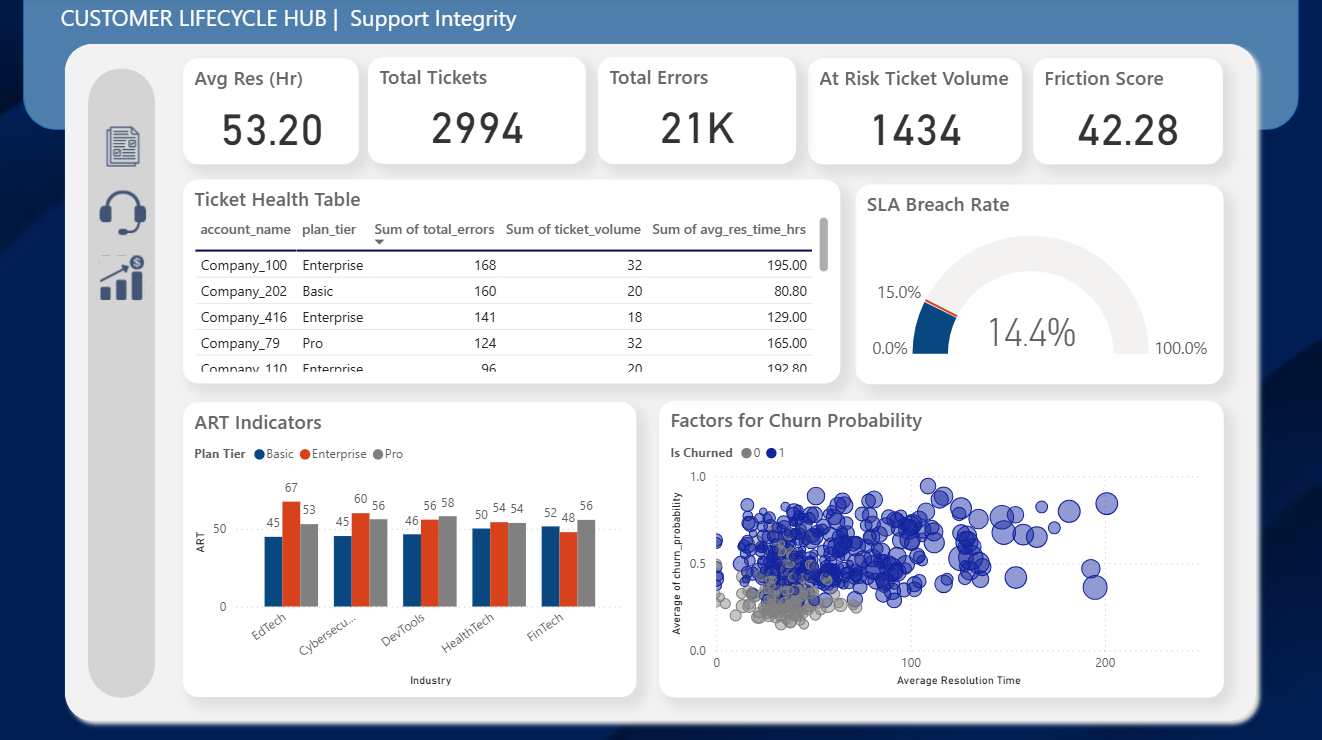

This screenshot's page, from the dashboard's own definition file:
{"tool":"powerbi","page":{"name":"Support Integrity","canvas":[1280,720],"ordinal":1},"visuals":[{"type":"shape","box":[24.5,0,1231.4,128.4],"z":0},{"type":"shape","box":[55,36.7,1167.8,671.3],"z":1000},{"type":"textbox","box":[55,0,816.9,48.9],"z":2000},{"type":"actionButton","box":[86.8,68.5,64.8,607.7],"z":3000},{"type":"actionButton","box":[94.2,112.5,51.4,64.8],"z":4000},{"type":"actionButton","box":[94.2,181,51.4,53.8],"z":5000},{"type":"card","title":"Avg Res (Hr)","fields":{"Values":["Measures_Table.Avg Resolution Time"]},"box":[178.5,58.7,170,102.7],"z":6000},{"type":"clusteredColumnChart","title":"ART Indicators","fields":{"Y":["Measures_Table.Average Resolution Time"],"Category":["Dim_Accounts.industry"],"Series":["Dim_Accounts.plan_tier"]},"box":[179.1,391,437.2,285],"z":7000},{"type":"gauge","title":"SLA Breach Rate","fields":{"Y":["Measures_Table.SLA Breach Rate"],"TargetValue":["Measures_Table.SLA Target"]},"box":[828.2,180.6,355.1,192.5],"z":8000},{"type":"card","title":"At Risk Ticket Volume","fields":{"Values":["Measures_Table.At Risk Ticket Volume"]},"box":[781.4,58.7,206.7,102.7],"z":9000},{"type":"card","title":"Friction Score","fields":{"Values":["Measures_Table.Friction Score"]},"box":[999.1,58.7,183.4,102.7],"z":10000},{"type":"scatterChart","title":"Factors for Churn Probability","fields":{"X":["Measures_Table.Average Resolution Time"],"Y":["Avg(Fact_Churn_Prediction.churn_probability)"],"Size":["Sum(Fact_Churn_Prediction.total_errors)"],"Category":["Dim_Geography.account_name"],"Series":["Fact_Churn_Prediction.is_churned"]},"box":[638.7,389.5,544.7,286.5],"z":11000},{"type":"tableEx","title":"Ticket Health Table","fields":{"Values":["Dim_Geography.account_name","Dim_Accounts.plan_tier","Sum(Fact_Churn_Prediction.total_errors)","Sum(Fact_Churn_Prediction.ticket_volume)","Sum(Fact_Churn_Prediction.avg_res_time_hrs)"]},"box":[179.1,176.1,634.2,197],"z":12000},{"type":"card","title":"Total Tickets","fields":{"Values":["Sum(Fact_Churn_Prediction.ticket_volume)"]},"box":[356.6,58.2,210.4,103],"z":13000},{"type":"card","title":"Total Errors","fields":{"Values":["Sum(Fact_Churn_Prediction.total_errors)"]},"box":[579,58.2,191,103],"z":14000},{"type":"actionButton","box":[93.6,238.3,51.2,63.6],"z":15000}]}

Visuals, with their boxes in screenshot pixels (x1, y1, x2, y2), scaled from the page's 1280x720 canvas onto the 1322x740 screenshot:
shape: 25:0:1297:132
shape: 57:38:1263:728
textbox: 57:0:901:50
actionButton: 90:70:157:695
actionButton: 97:116:150:182
actionButton: 97:186:150:241
"Avg Res (Hr)" card: 184:60:360:166
"ART Indicators" clusteredColumnChart: 185:402:637:695
"SLA Breach Rate" gauge: 855:186:1222:383
"At Risk Ticket Volume" card: 807:60:1021:166
"Friction Score" card: 1032:60:1221:166
"Factors for Churn Probability" scatterChart: 660:400:1222:695
"Ticket Health Table" tableEx: 185:181:840:383
"Total Tickets" card: 368:60:586:166
"Total Errors" card: 598:60:795:166
actionButton: 97:245:150:310
